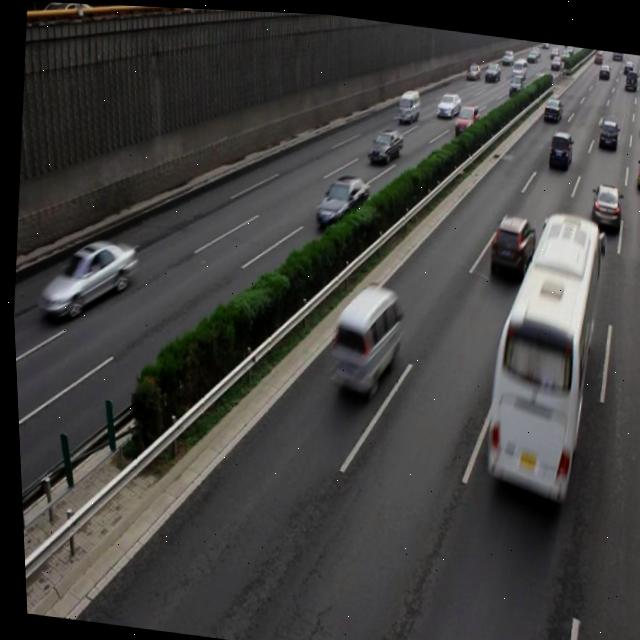car: (33, 229, 139, 324), (309, 165, 370, 230), (483, 205, 534, 278), (584, 175, 620, 232), (363, 121, 403, 163), (631, 147, 640, 187)
truck: (321, 275, 402, 396), (544, 124, 572, 166)
van: (470, 198, 608, 499)
